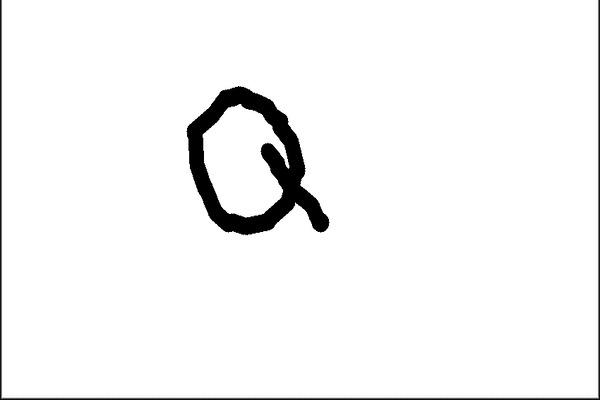Q: (174, 75, 332, 246)
